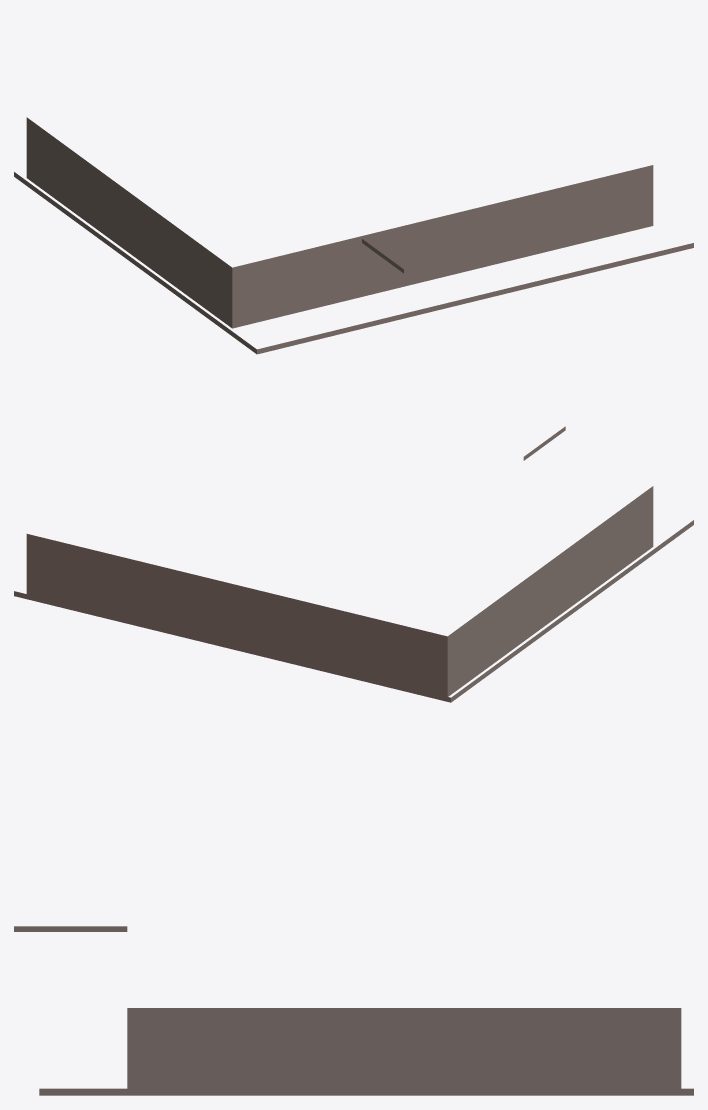
Rendered from brick-lobby.far-facades-v1.lod2.glb.
3 views of the same model, one above another, from view 1: azimuth 30°, elevation 25°; view 2: azimuth 150°, elevation 25°; view 3: azimuth 270°, elevation 25° (orthographic). The views are drawn at different scales.
Visible parts, largest first — view 1: brick-lobby; view 2: brick-lobby; view 3: brick-lobby.
Part boxes in pixels (box(x1,y1,x2,y2)): brick-lobby: box(14, 117, 693, 354); brick-lobby: box(14, 426, 693, 702); brick-lobby: box(14, 926, 693, 1095).
Size of the model in its own units: 27 by 3.6 by 27.
